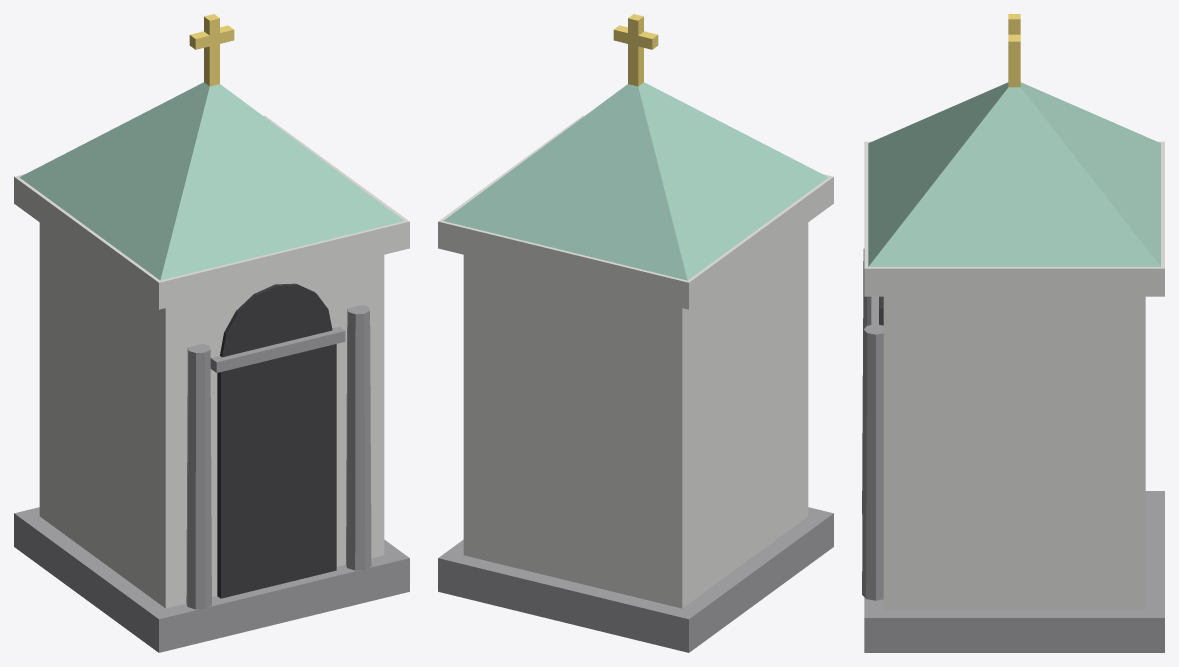
Rendered from VN_Mausoleo.fbx.
3 views of the same model, side by side, from view 1: azimuth 30°, elevation 25°; view 2: azimuth 150°, elevation 25°; view 3: azimuth 270°, elevation 25° (orthographic). The views are drawn at different scales.
Visible parts, largest first — view 1: VN_Mausoleo; view 2: VN_Mausoleo; view 3: VN_Mausoleo.
Boxes of the visible parts, x1,y1,x2,y2 form: VN_Mausoleo: (14,14,409,652); VN_Mausoleo: (438,14,833,652); VN_Mausoleo: (862,14,1164,652).
Size of the model in its own units: 1.95 by 4.1 by 1.97.
